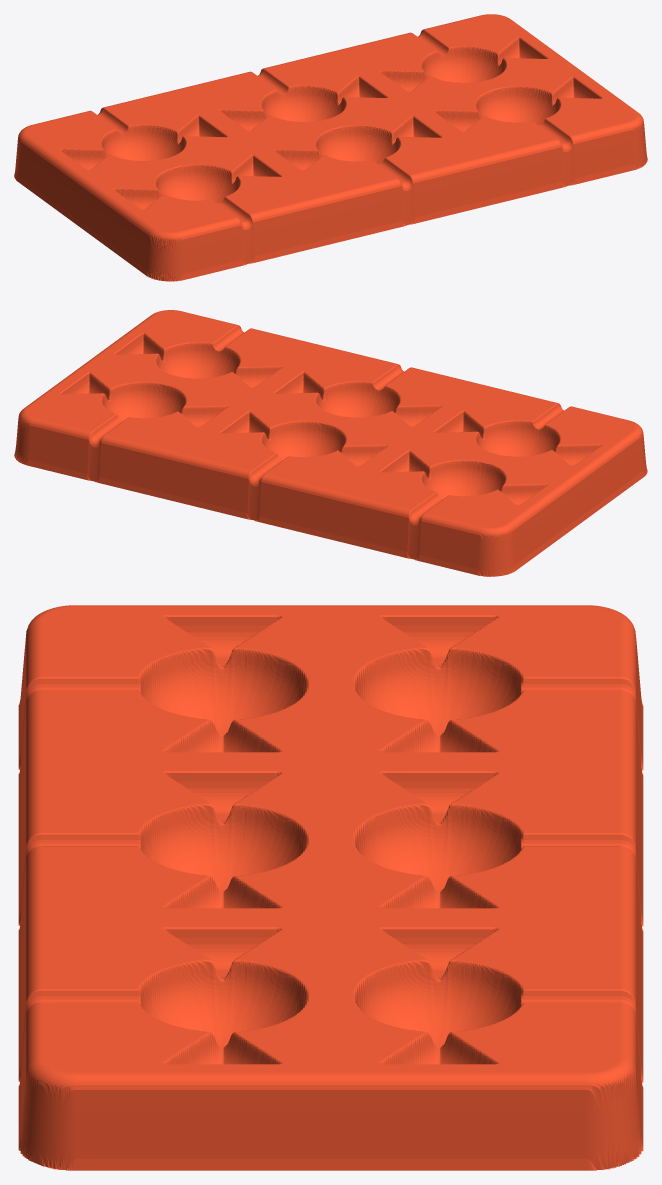
Rendered from mold.glb.
3 renders of one model, top to bottom at view 1: azimuth 30°, elevation 25°; view 2: azimuth 150°, elevation 25°; view 3: azimuth 270°, elevation 25°, orthographic. The views are drawn at different scales.
Visible parts, largest first — view 1: geometry_0; view 2: geometry_0; view 3: geometry_0.
Part boxes in pixels (left/top/right/bottom): geometry_0: left=14, top=14, right=647, bottom=281; geometry_0: left=14, top=310, right=647, bottom=576; geometry_0: left=18, top=605, right=643, bottom=1170.
Bounding box in the file's own units: 0.1824 × 0.0155 × 0.0992.
